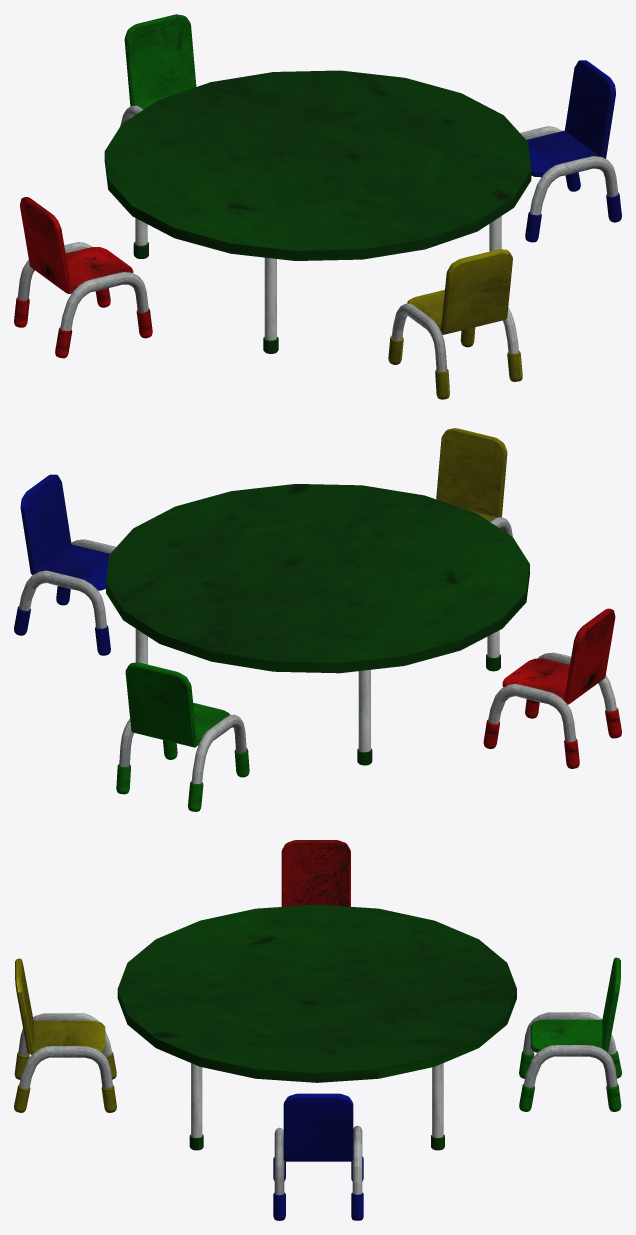
The model's file is CadeirasEMesaRedonda.fbx.
3 renders of one model, top to bottom at view 1: azimuth 30°, elevation 25°; view 2: azimuth 150°, elevation 25°; view 3: azimuth 270°, elevation 25°, orthographic. The views are drawn at different scales.
Visible parts, largest first — view 1: pCylinder1, pCube7 (×2), pCube10, pCube2, pCube6 (×2), pCylinder28 (×2), pCube1, pCylinder19, pCylinder20, pCylinder8; view 2: pCylinder1, pCube7 (×2), pCube10, pCube2, pCube1 (×2), pCylinder20 (×2), pCube6, pCylinder14, pCylinder28, pCylinder4; view 3: pCylinder1, pCube7 (×2), pCube2, pCylinder14 (×2), pCube6, pCube1, pCylinder11, pCube10, pCylinder6, pCylinder2, pCylinder20, pCylinder28 (+1 smaller).
Boxes of the visible parts, x1,y1,x2,y2 form: pCylinder1: (104, 70, 531, 260); pCube7 (×2): (20, 14, 196, 293); pCube10: (441, 249, 512, 334); pCube2: (565, 60, 615, 158); pCube6 (×2): (407, 130, 599, 334); pCylinder28 (×2): (17, 242, 446, 371); pCube1: (65, 247, 133, 293); pCylinder19: (529, 156, 618, 215); pCylinder20: (60, 272, 148, 330); pCylinder8: (264, 257, 276, 340); pCylinder1: (106, 484, 529, 673); pCube7 (×2): (125, 608, 615, 747); pCube10: (436, 428, 507, 517); pCube2: (20, 474, 71, 574); pCube1 (×2): (134, 658, 569, 747); pCylinder20 (×2): (191, 652, 616, 783); pCube6: (32, 544, 109, 590); pCylinder14: (19, 570, 106, 628); pCylinder28: (488, 683, 576, 741); pCylinder4: (358, 669, 370, 752); pCylinder1: (117, 904, 516, 1082); pCube7 (×2): (281, 840, 620, 1052); pCube2: (283, 1093, 353, 1161); pCylinder14 (×2): (19, 1046, 362, 1194); pCube6: (30, 1020, 105, 1054); pCube1: (530, 1019, 604, 1052); pCylinder11: (524, 1045, 617, 1087); pCube10: (15, 958, 33, 1053); pCylinder6: (432, 1063, 443, 1137); pCylinder2: (191, 1063, 202, 1137); pCylinder20: (523, 1012, 616, 1054); pCylinder28: (18, 1013, 111, 1055).
Bounding box in the file's own units: 2.54 × 0.5959 × 2.53.
7 materials, 7 textured.
